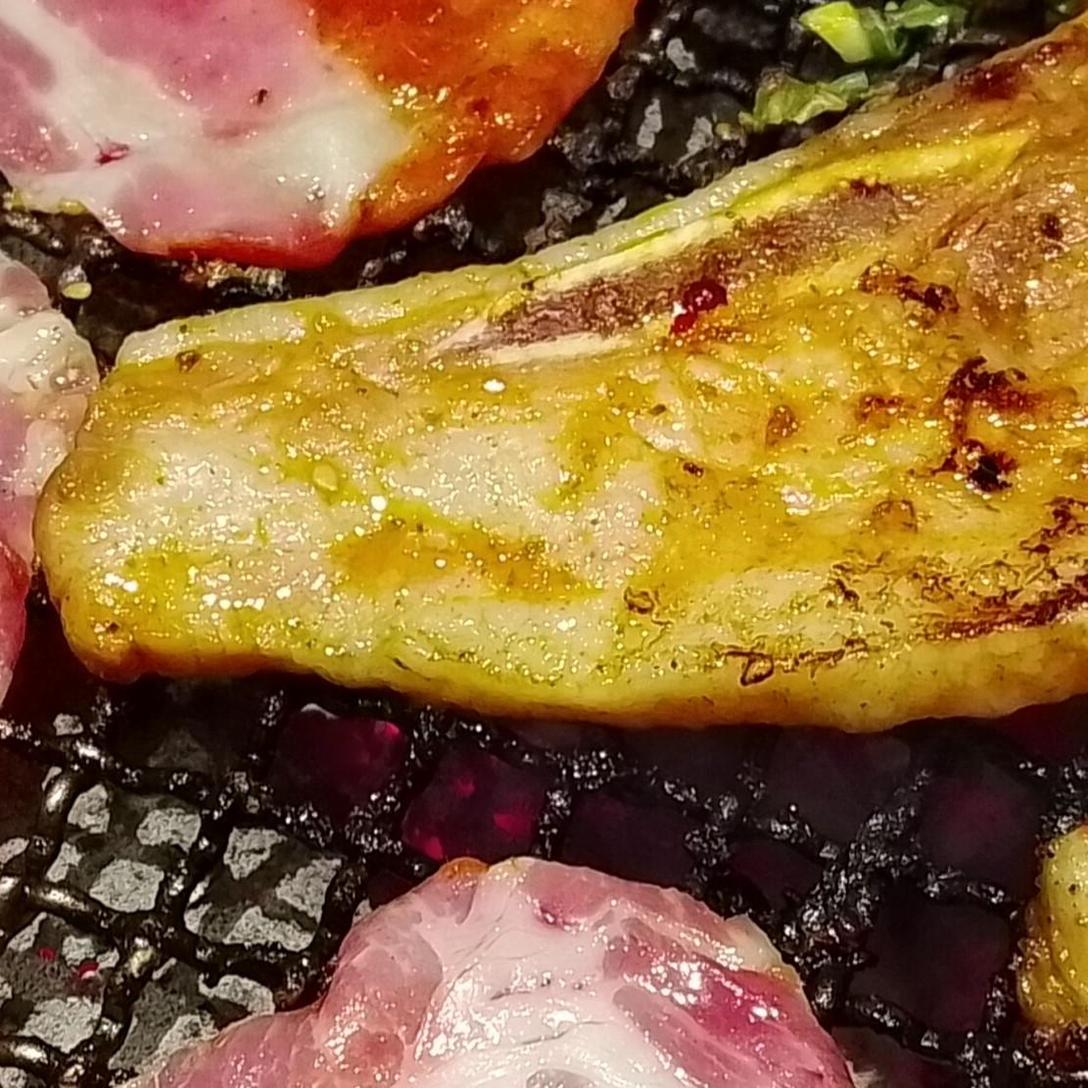Undercooked: (131, 859, 860, 1087), (0, 0, 627, 256), (0, 257, 100, 717)
Well-Cooked: (35, 0, 1087, 708)
